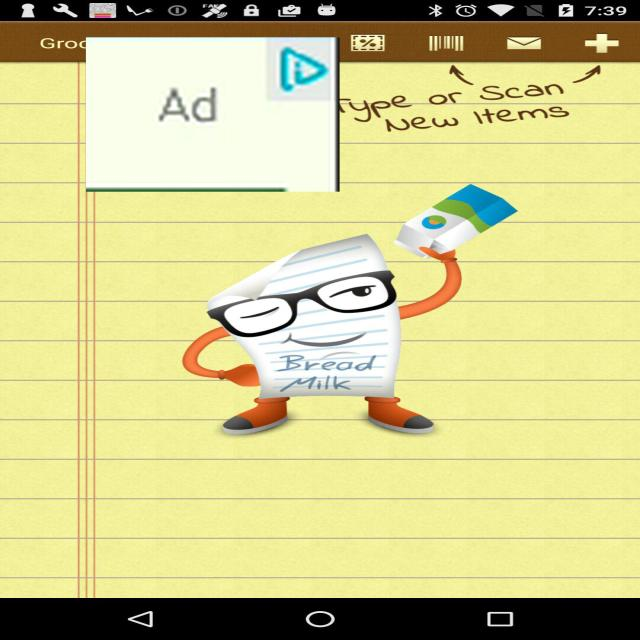sneaking: (86, 37, 339, 192)
